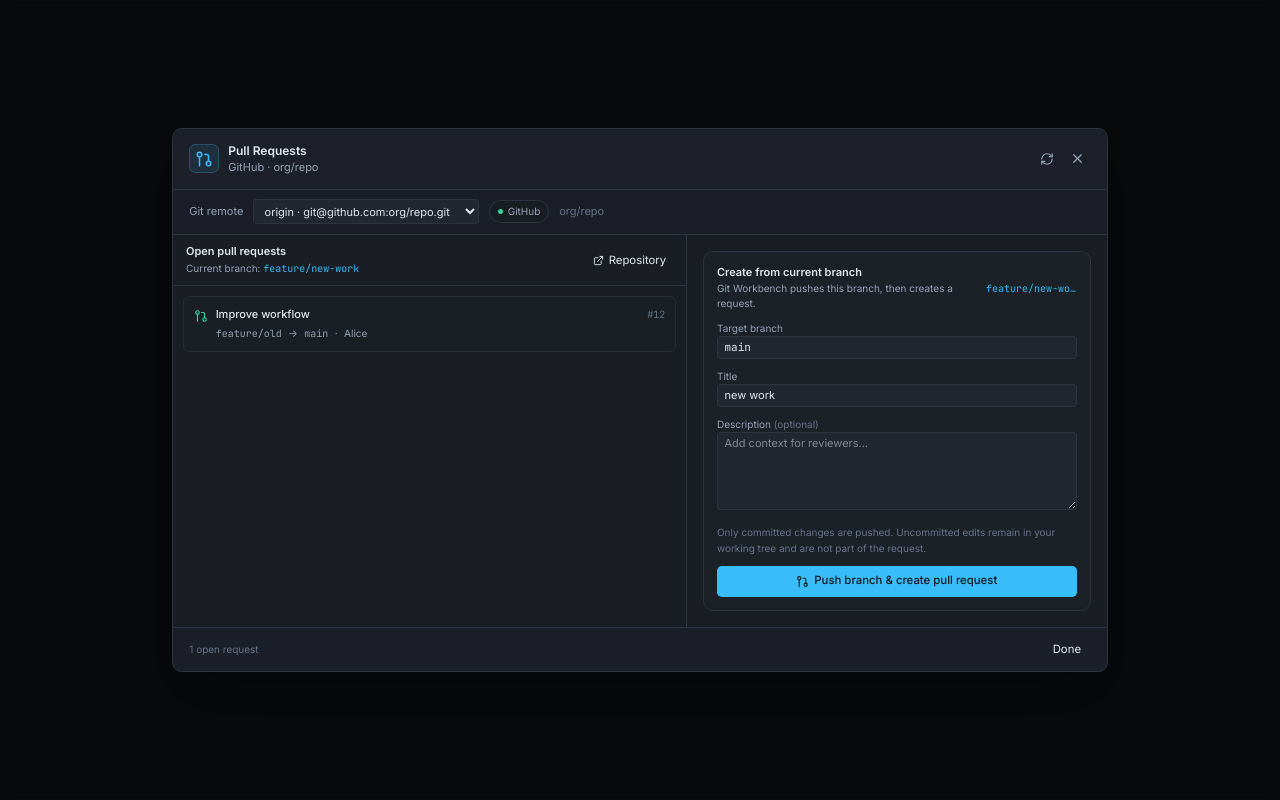
Test: request browsing and creation › selects other requests without a current-branch default and handles dates omitted from provider results
expect the text "1 open request" is shown: met, box [189,642,259,657]
Click the button "Improve workflow feature/old → main · Alice #12".
click(263, 314)  # box [183,296,676,352]
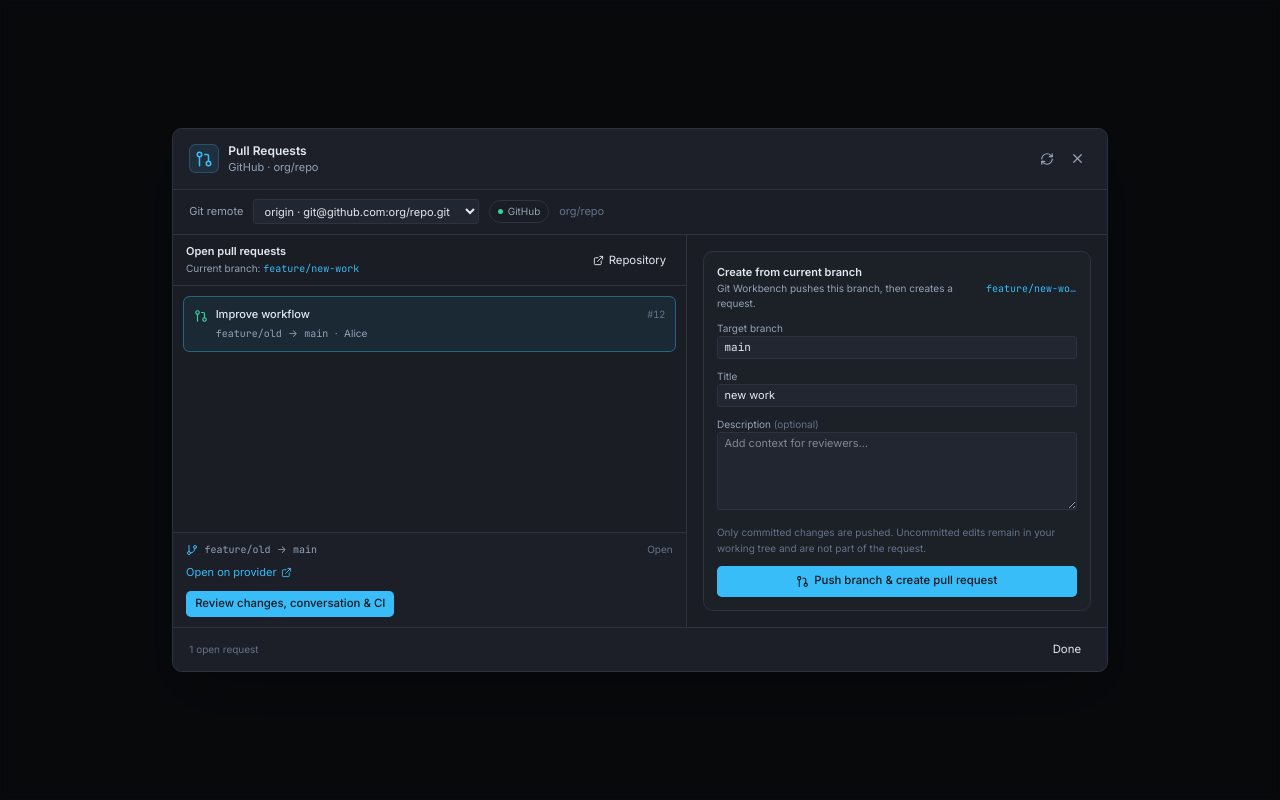
expect the button "Review changes, conversation & CI" is shown: met, box [186,591,394,617]
